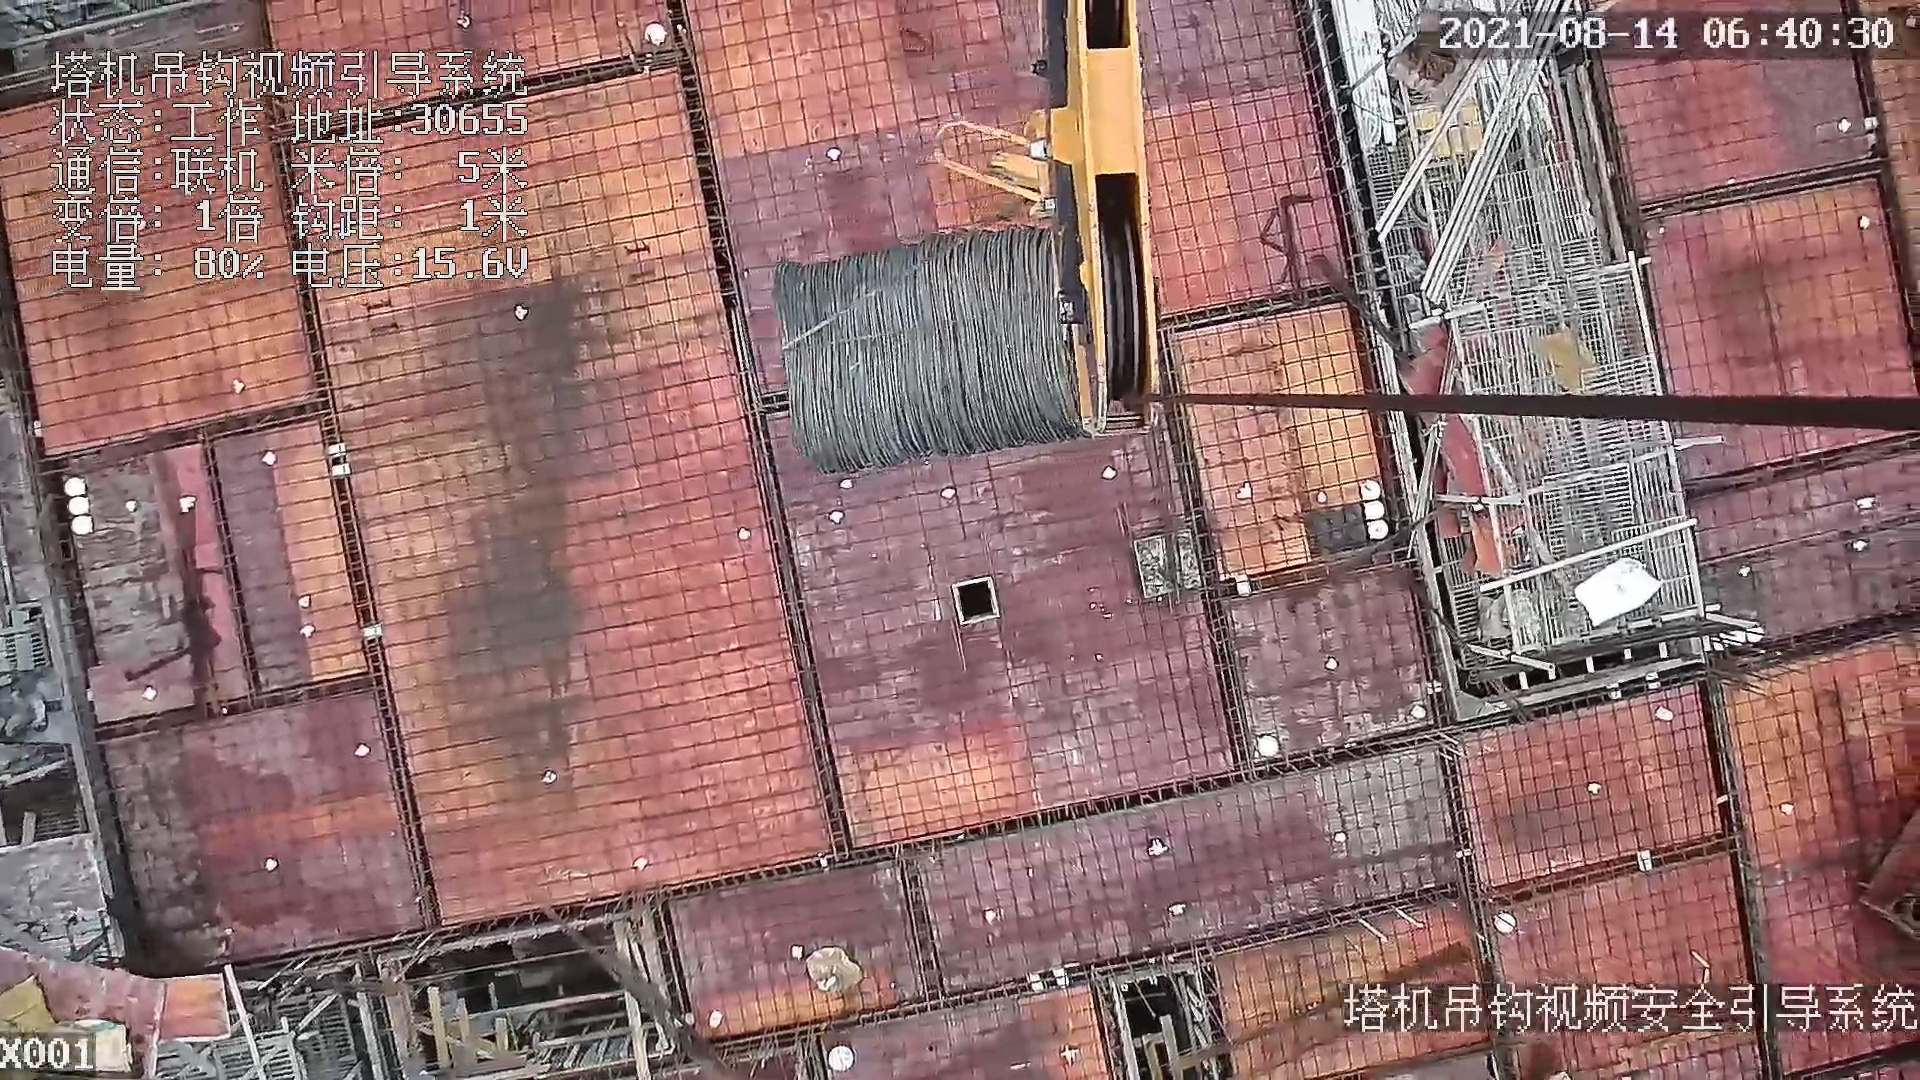hook: (934, 1, 1174, 435)
